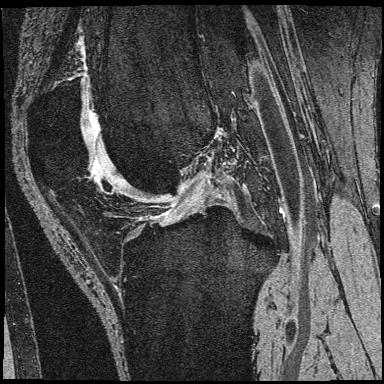SagKneeJointArea: (25, 75, 279, 311)
